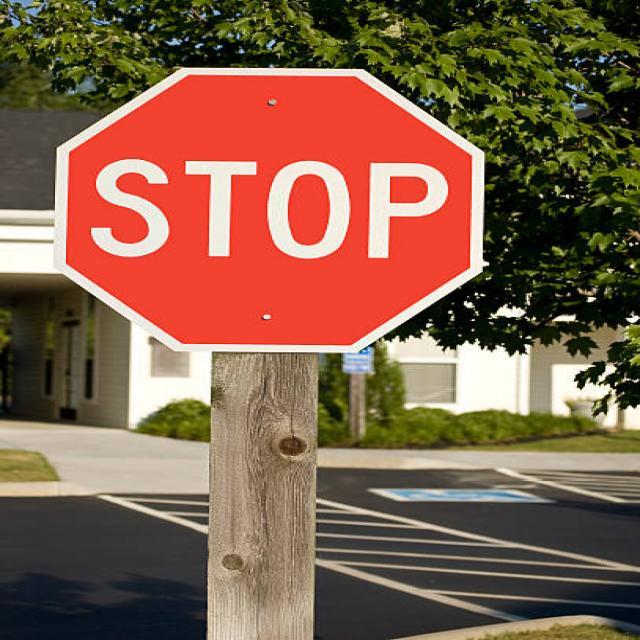stop: (46, 61, 501, 362)
